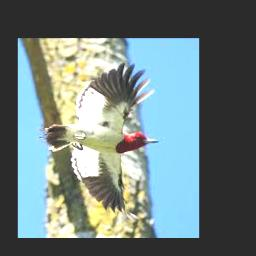Woodpecker: (40, 63, 159, 219)
